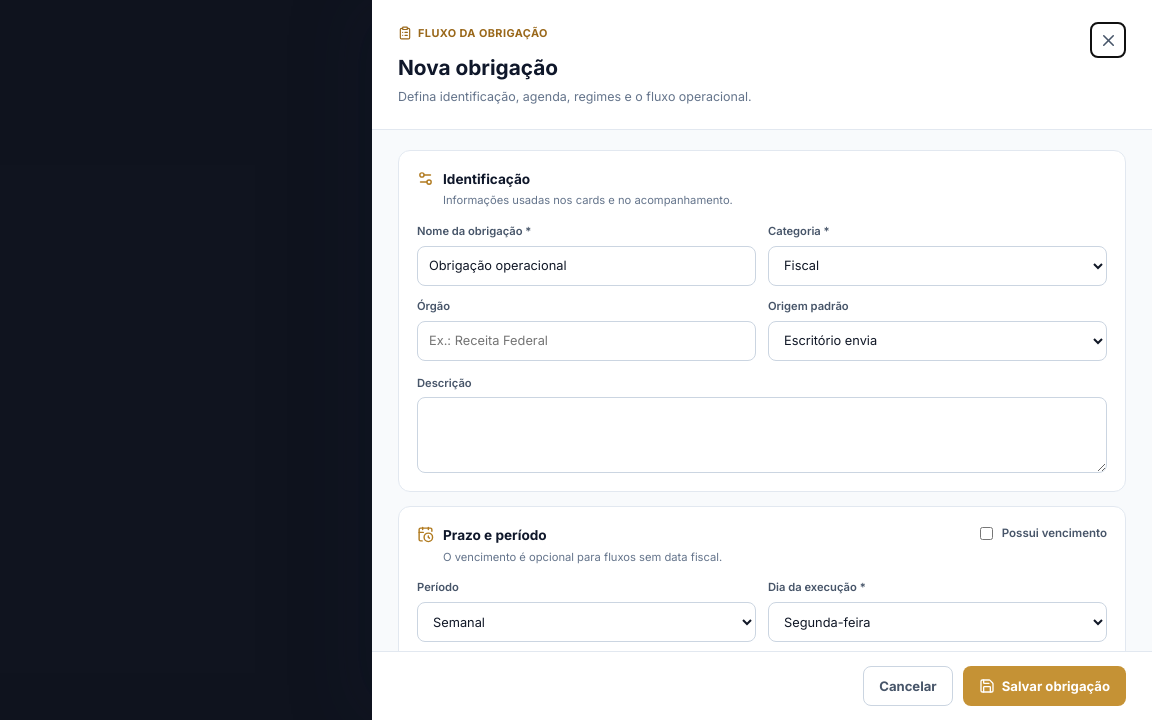
ObrigacaoEditorDrawer agenda operacional › exige a agenda de {"periodicidade":"semanal"} mesmo sem prazo fiscal
The image size is (1152, 720).
Click the button "Salvar obrigação": (1044, 686) [963, 666, 1126, 706]
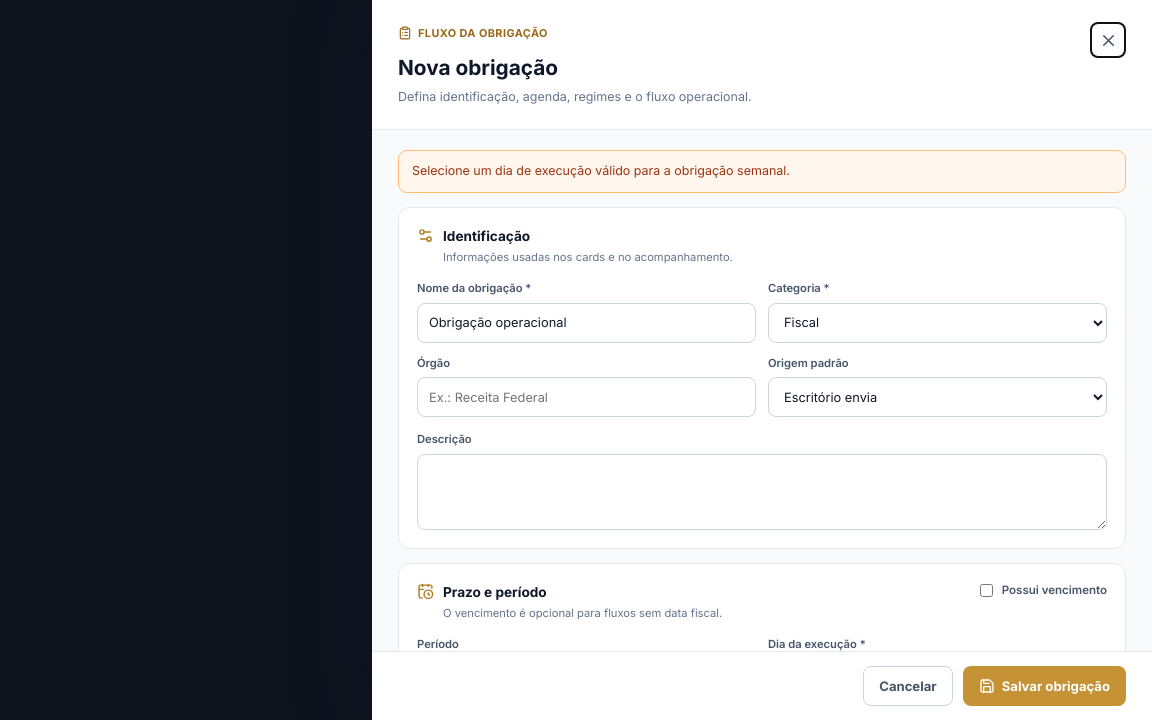
expect the message reads "Selecione um dia de execução válido para a obrigação semanal.": met, box [412, 163, 790, 178]
